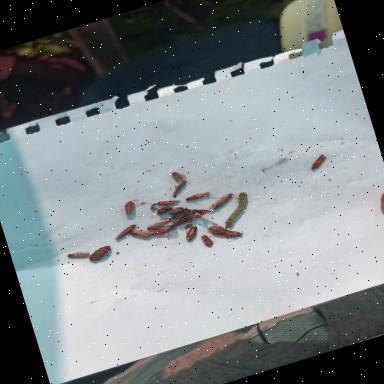pbw: (204, 188, 240, 212), (213, 223, 248, 243), (142, 214, 177, 233), (164, 178, 194, 200), (127, 222, 156, 244), (304, 150, 332, 172), (142, 222, 174, 241), (110, 222, 140, 242), (204, 218, 230, 240), (151, 193, 182, 211), (62, 246, 92, 264), (166, 213, 194, 230), (184, 187, 213, 203), (167, 166, 189, 184), (181, 224, 200, 242), (119, 198, 137, 216), (199, 231, 215, 249)
